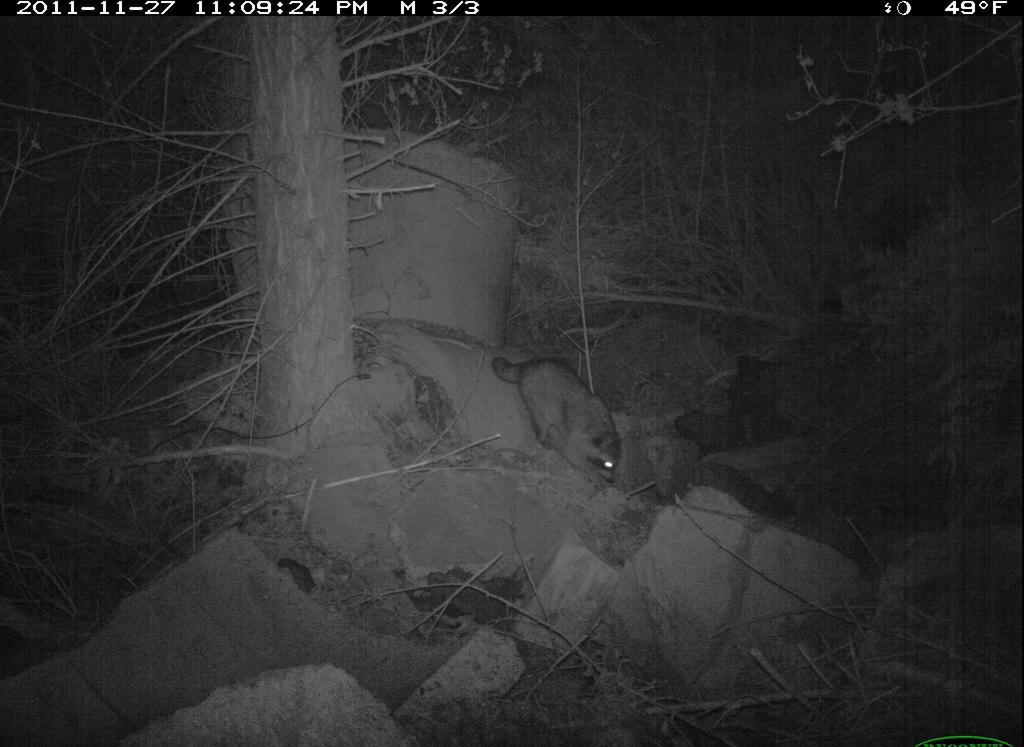raccoon: (477, 344, 647, 506)
